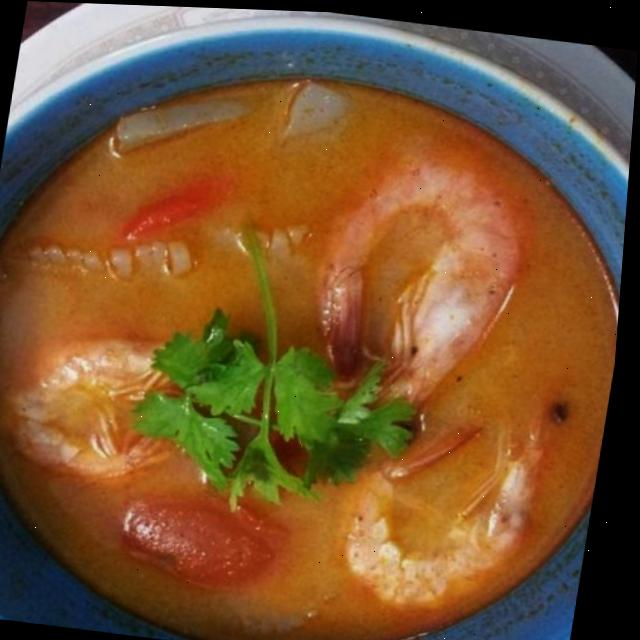汤锅炖物: (0, 10, 639, 640)
